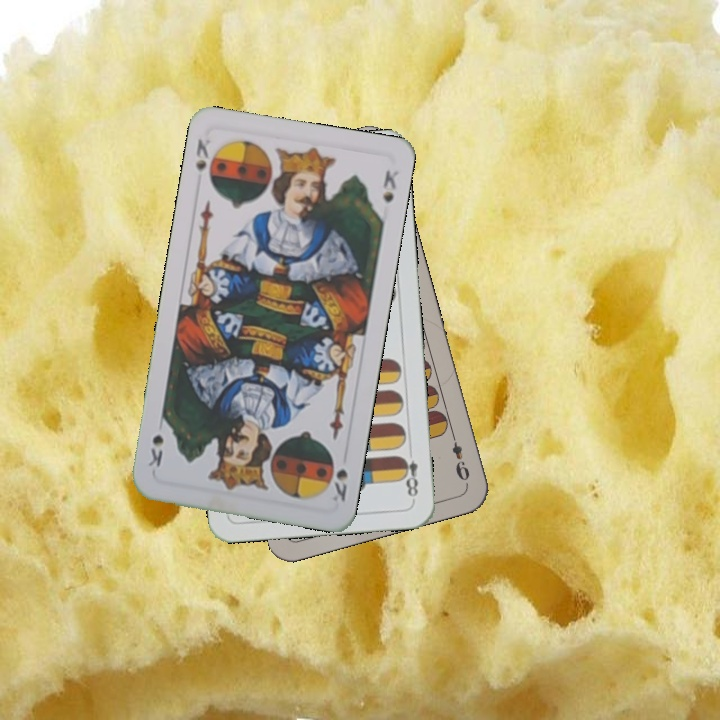E8: (396, 443, 421, 503)
E9: (447, 428, 473, 487)
SK: (191, 132, 214, 176), (327, 464, 351, 504)
